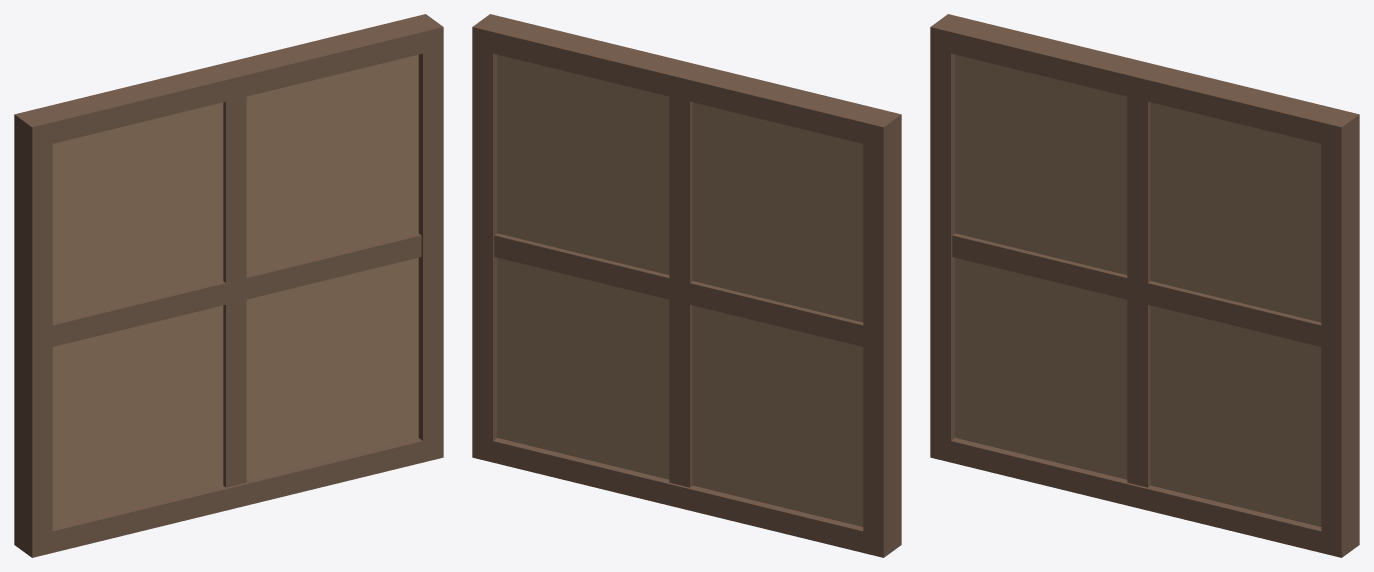
The model's file is haunted_wall_woodsolid.glb.
The picture shows the model from 3 angles, left to right: view 1: azimuth 30°, elevation 25°; view 2: azimuth 150°, elevation 25°; view 3: azimuth 330°, elevation 25°; orthographic projection.
Visible parts, largest first — view 1: Haunted_Wall_WoodSolid; view 2: Haunted_Wall_WoodSolid; view 3: Haunted_Wall_WoodSolid.
Boxes of the visible parts, x1=… form: Haunted_Wall_WoodSolid: x1=14, y1=14, x2=443, y2=557; Haunted_Wall_WoodSolid: x1=472, y1=14, x2=901, y2=557; Haunted_Wall_WoodSolid: x1=930, y1=14, x2=1359, y2=557.
Size of the model in its own units: 4 by 4 by 0.3.
